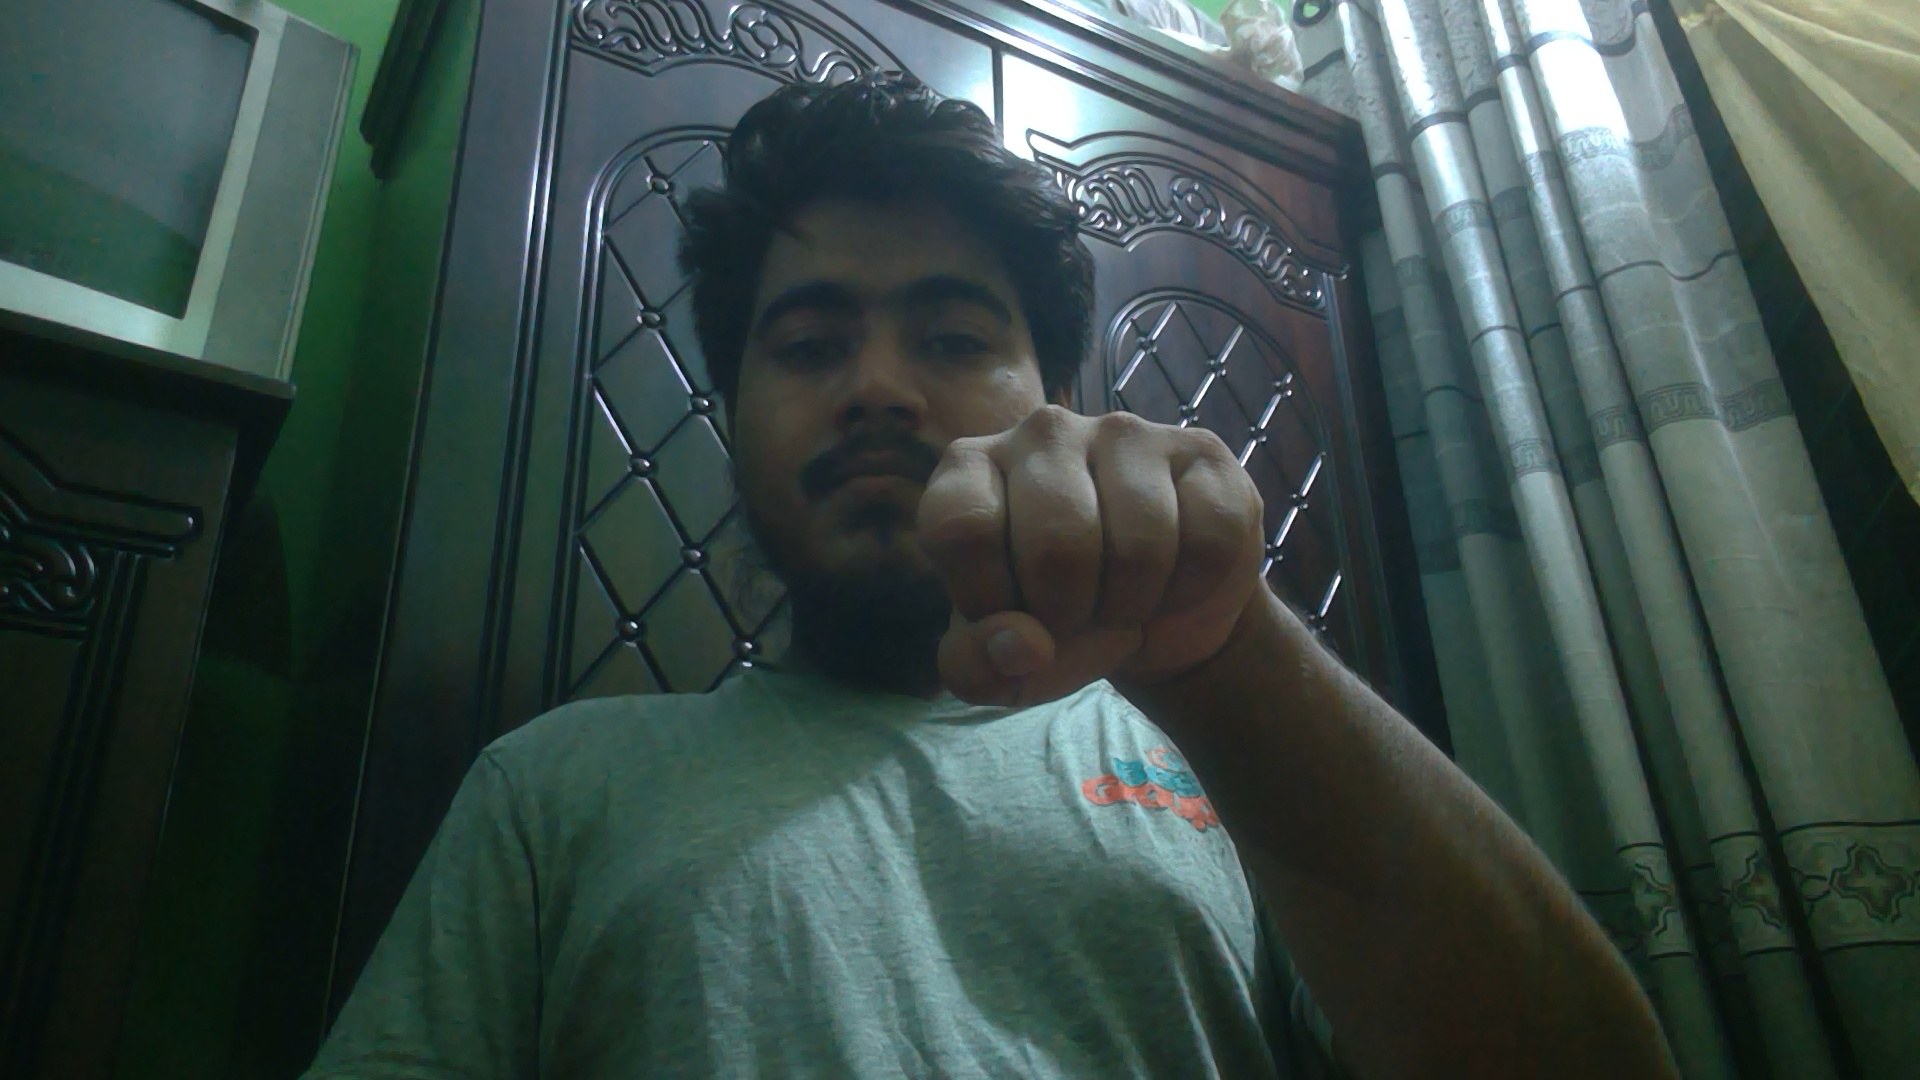yes: (910, 389, 1274, 728)
